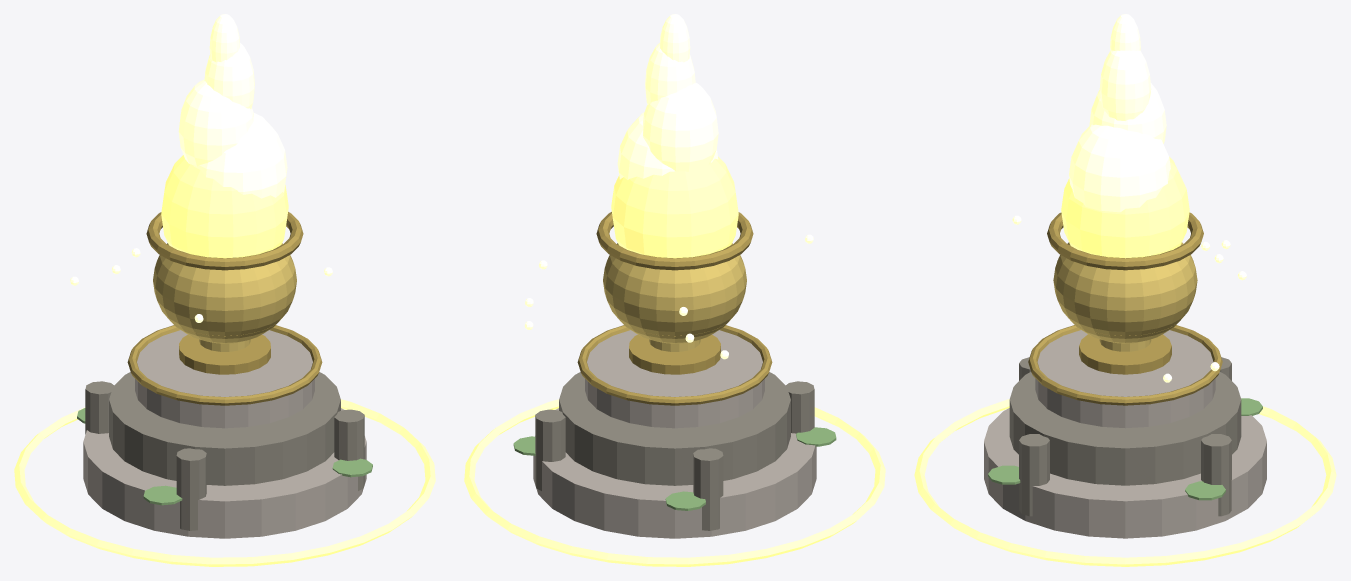
Rendered from flame_brazier.glb.
3 views of the same model, side by side, from view 1: azimuth 30°, elevation 25°; view 2: azimuth 150°, elevation 25°; view 3: azimuth 270°, elevation 25° (orthographic).
Parts seen in each view (by area): view 1: flame_brazier; view 2: flame_brazier; view 3: flame_brazier.
Part boxes in pixels (x1,y1,x2,y2): flame_brazier: [14, 14, 435, 566]; flame_brazier: [464, 14, 885, 566]; flame_brazier: [914, 14, 1336, 566].
Bounding box in the file's own units: 1.64 × 2 × 1.64.
